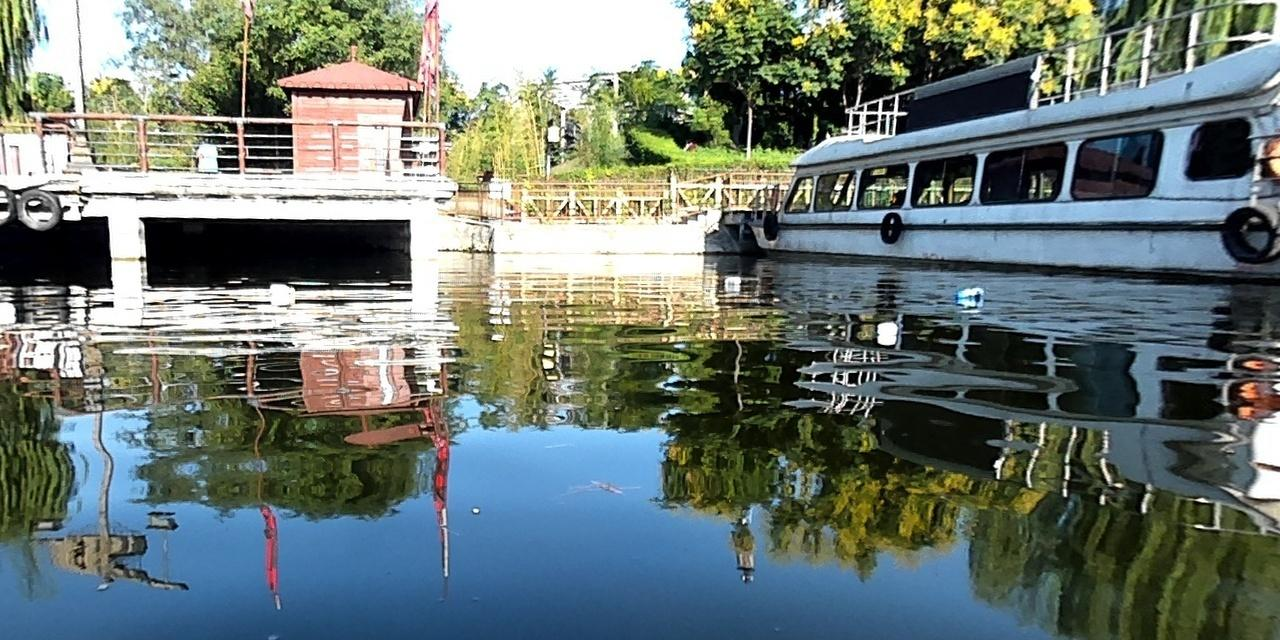bottle: (953, 283, 987, 303), (267, 280, 295, 294), (722, 273, 739, 284)
